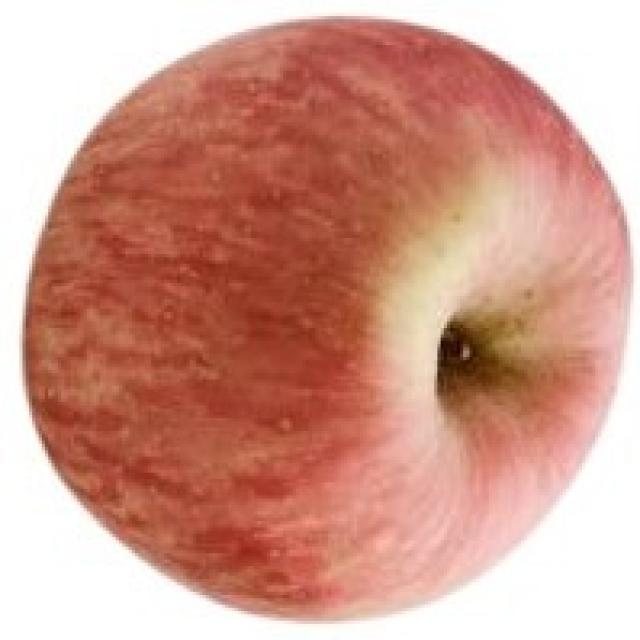75-_ripeness: (26, 10, 628, 630)
